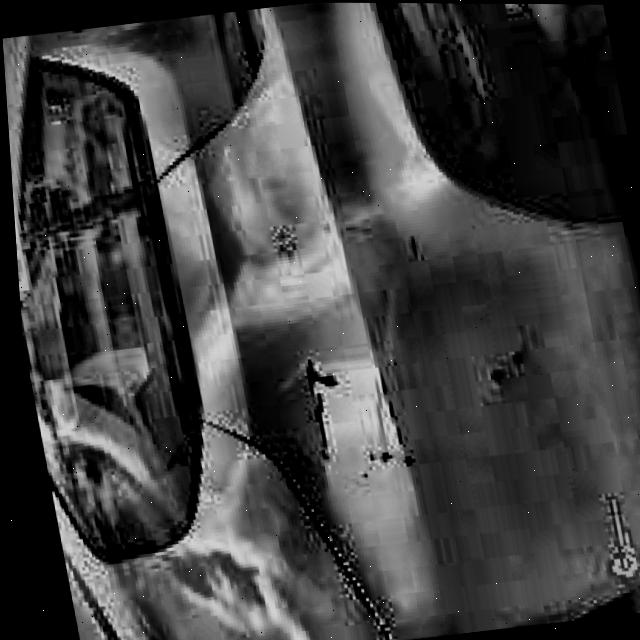bumper_scratch: (282, 339, 365, 480), (462, 324, 553, 410)
